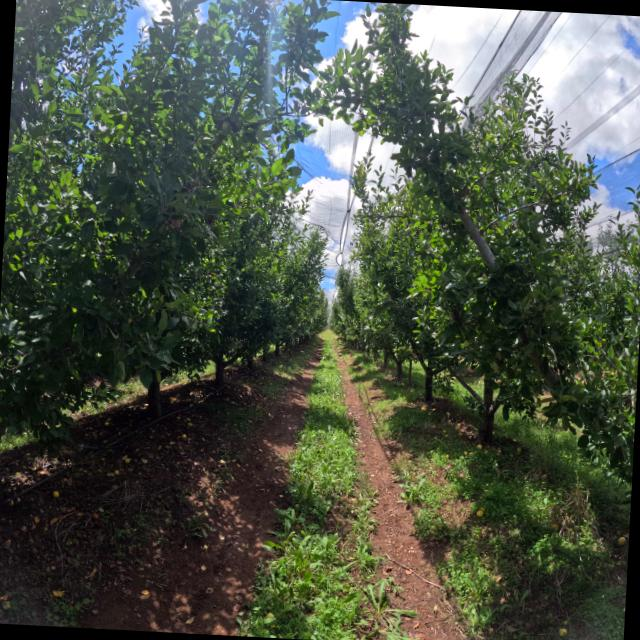-FireBlight-: (169, 218, 184, 229), (210, 213, 217, 229)
